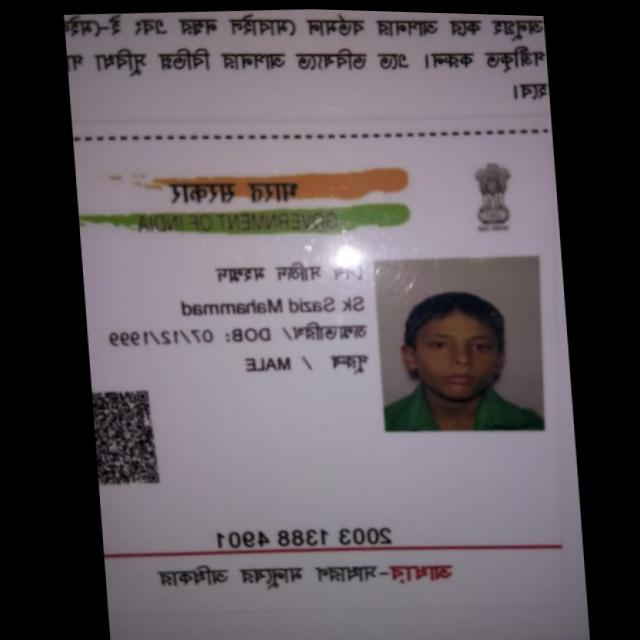aadhaar: (72, 102, 585, 633)
